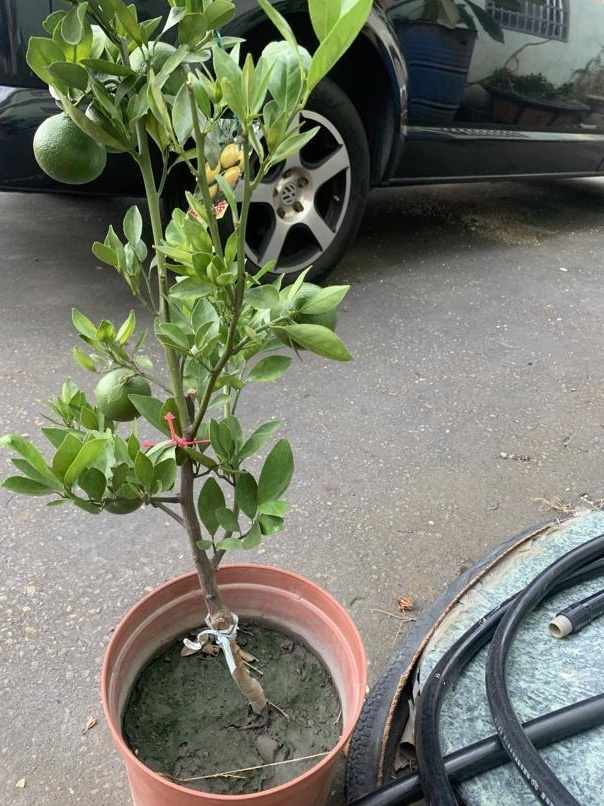Tangerine: (32, 111, 108, 186)
